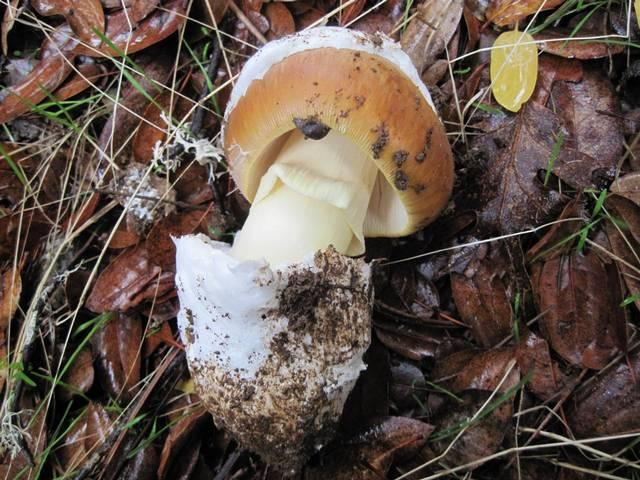edible_mushroom: (170, 24, 456, 475), (219, 24, 455, 268)
